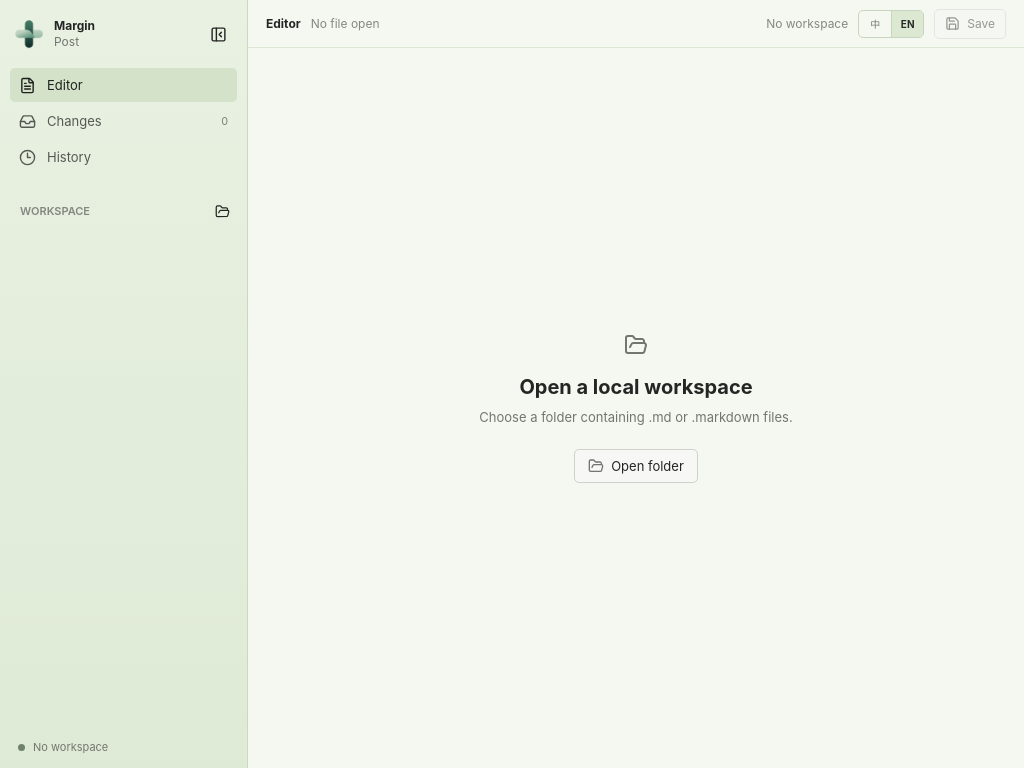
Test: App › filters workspace files without changing the workspace
Click the button with aria-label "Open Markdown Workspace": (636,466) [574,449,698,483]
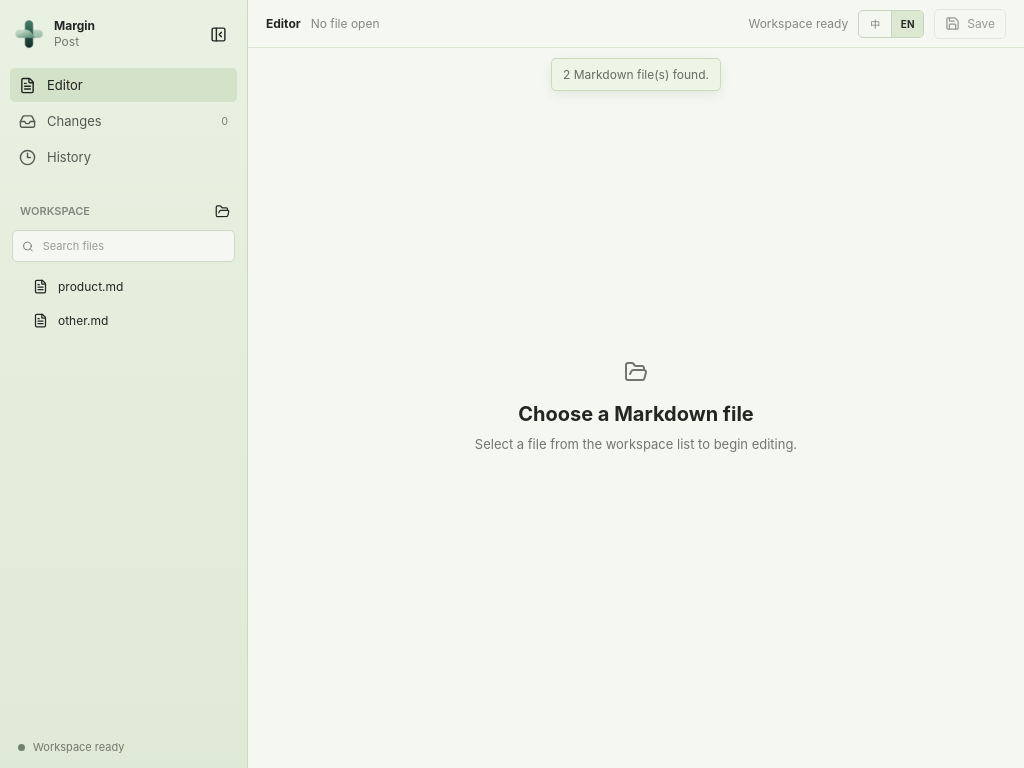
In the search field named "Search workspace": (133,246) [41,238,225,254], type "other"
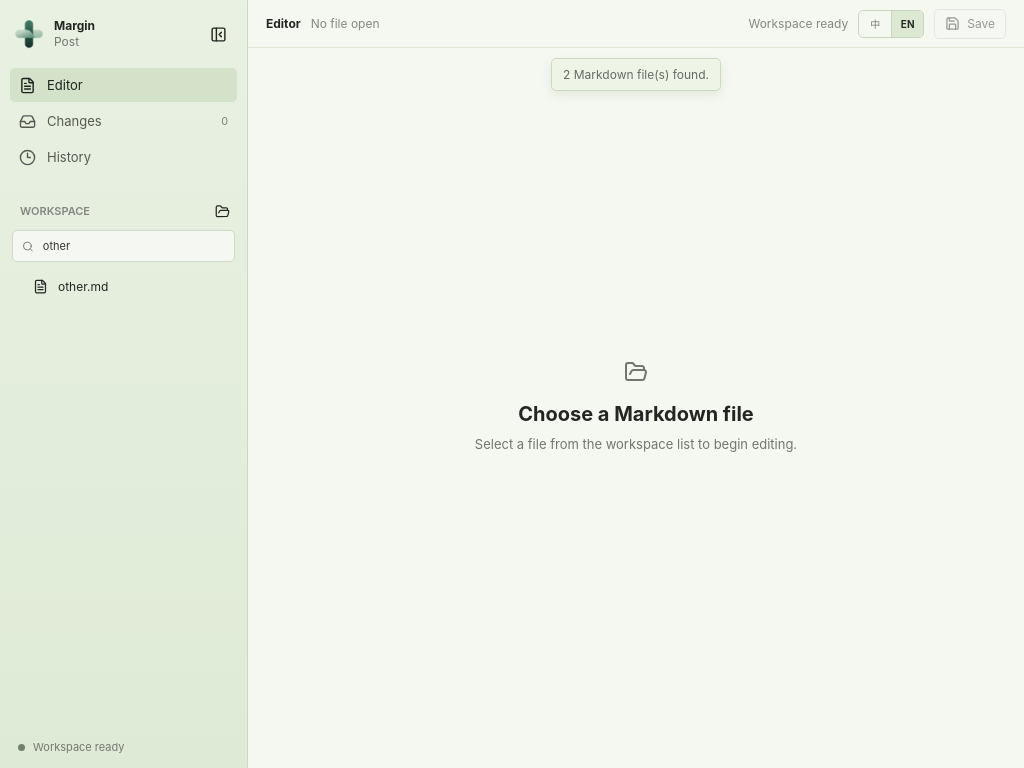
expect the button "other.md" is shown: met, box [10,269,237,303]
expect the button "product.md" is gone: met
